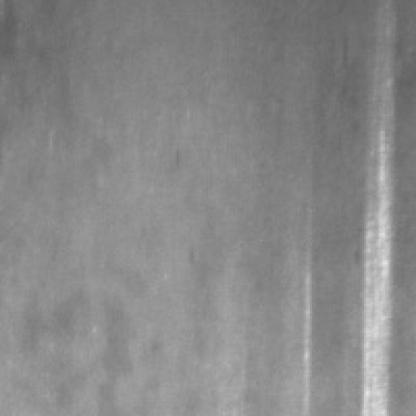scratches: (352, 106, 395, 412), (294, 233, 318, 410)
